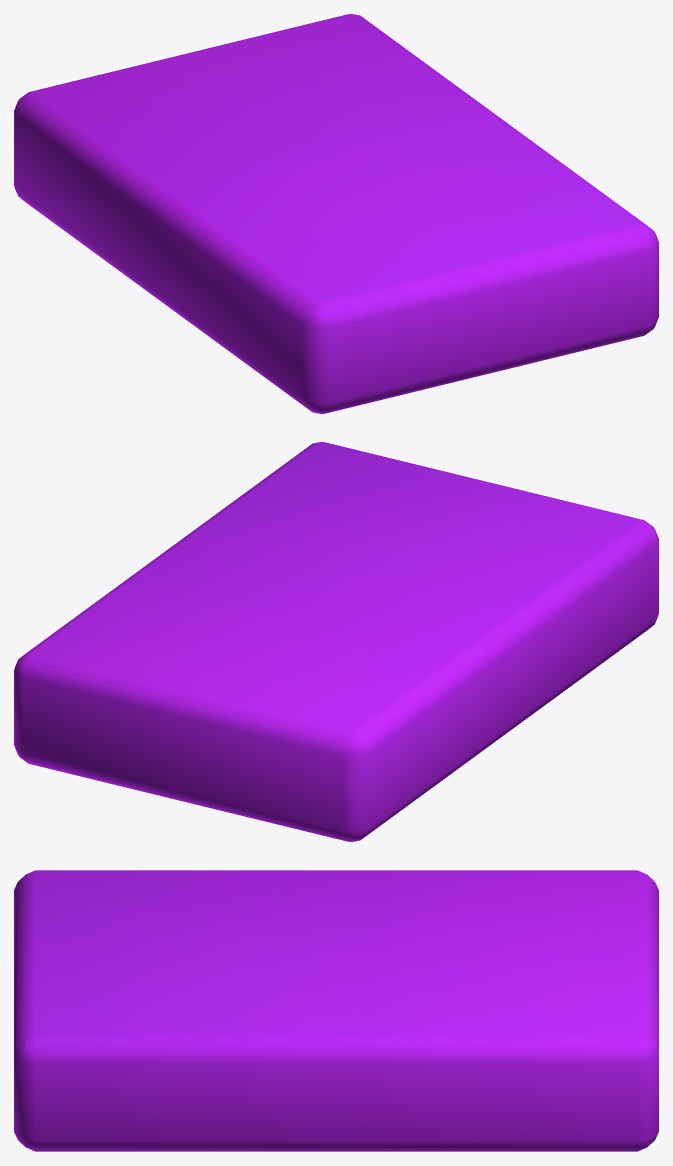
File: CuboidBlockPink.fbx
The picture shows the model from 3 angles, top to bottom: view 1: azimuth 30°, elevation 25°; view 2: azimuth 150°, elevation 25°; view 3: azimuth 270°, elevation 25°; orthographic projection. The views are drawn at different scales.
Visible parts, largest first — view 1: CuboidBlock; view 2: CuboidBlock; view 3: CuboidBlock.
Boxes of the visible parts, bbox=[...] form: CuboidBlock: bbox=[14, 14, 658, 413]; CuboidBlock: bbox=[14, 442, 658, 841]; CuboidBlock: bbox=[14, 870, 658, 1151].
Size of the model in its own units: 4 by 1.2 by 6.
